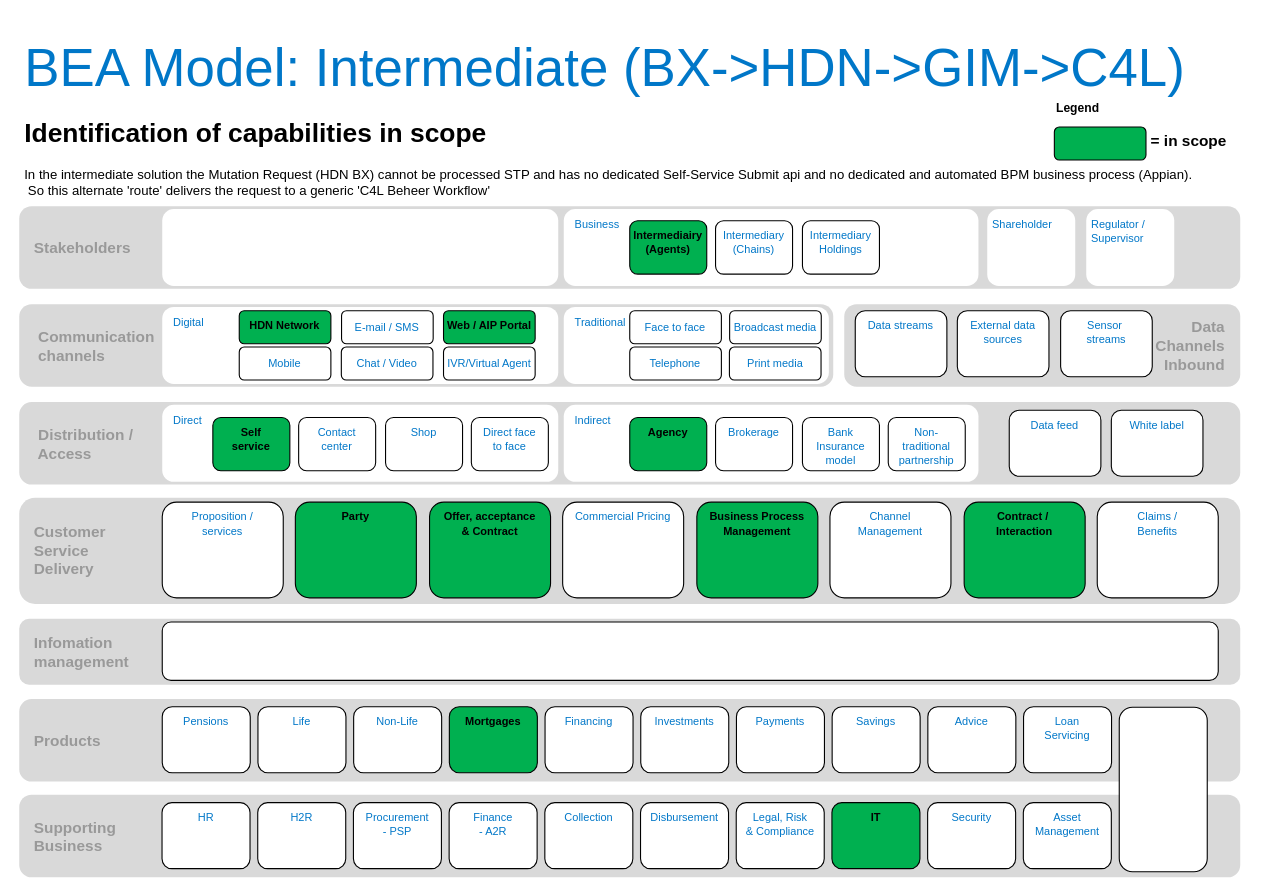
This 1271x895 diagram has some shape labels left out. Here are the shapes that lost their labels. From the top down, the centre of each, then its label:
the point at 360,246: Consumer
the point at 689,650: Information management
the point at 1162,789: External / misc. products & services
